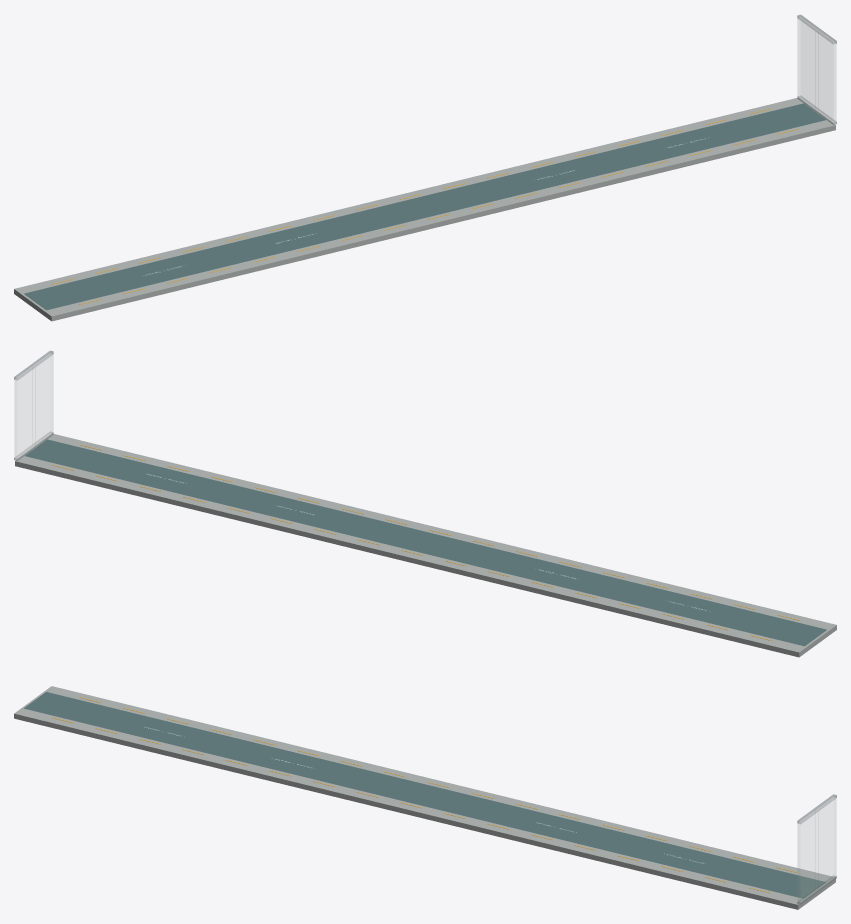
The model's file is fab1-corridor-l4.glb.
3 views of the same model, one above another, from view 1: azimuth 30°, elevation 25°; view 2: azimuth 150°, elevation 25°; view 3: azimuth 330°, elevation 25° (orthographic).
Visible parts, largest first — view 1: FAB1_L4_Path, FAB1_Corridor_L4_Floor, FAB1_Corridor_L4_EndWall; view 2: FAB1_L4_Path, FAB1_Corridor_L4_Floor, FAB1_Corridor_L4_EndWall; view 3: FAB1_L4_Path, FAB1_Corridor_L4_Floor, FAB1_Corridor_L4_EndWall.
Boxes of the visible parts, box(x1,y1,x2,y2) form: FAB1_L4_Path: box(24, 103, 825, 310); FAB1_Corridor_L4_Floor: box(14, 98, 835, 321); FAB1_Corridor_L4_EndWall: box(797, 14, 836, 124); FAB1_L4_Path: box(25, 439, 826, 646); FAB1_Corridor_L4_Floor: box(15, 434, 836, 657); FAB1_Corridor_L4_EndWall: box(14, 350, 53, 460); FAB1_L4_Path: box(24, 692, 825, 898); FAB1_Corridor_L4_Floor: box(14, 686, 835, 909); FAB1_Corridor_L4_EndWall: box(797, 794, 836, 904).
Bounding box in the file's own units: 36.08 × 3.87 × 3.
Materials: 3 (1 with a texture image).
